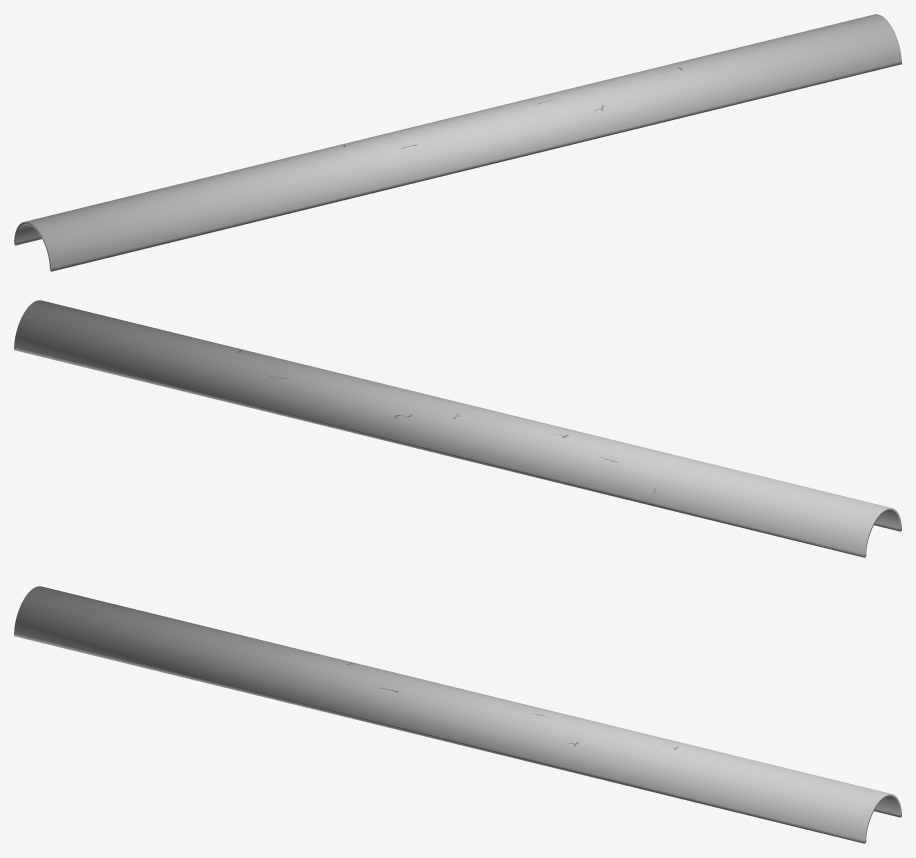
Rendered from tunnel_thick.obj.
3 renders of one model, top to bottom at view 1: azimuth 30°, elevation 25°; view 2: azimuth 150°, elevation 25°; view 3: azimuth 330°, elevation 25°, orthographic.
Visible parts, largest first — view 1: Tunnel_Inner; view 2: Tunnel_Inner; view 3: Tunnel_Inner.
Part boxes in pixels (bbox=[...]): Tunnel_Inner: bbox=[14, 14, 901, 271]; Tunnel_Inner: bbox=[14, 300, 901, 557]; Tunnel_Inner: bbox=[14, 586, 901, 843].
Bounding box in the file's own units: 10 × 0.38 × 0.7599.
1 material, 1 textured.
